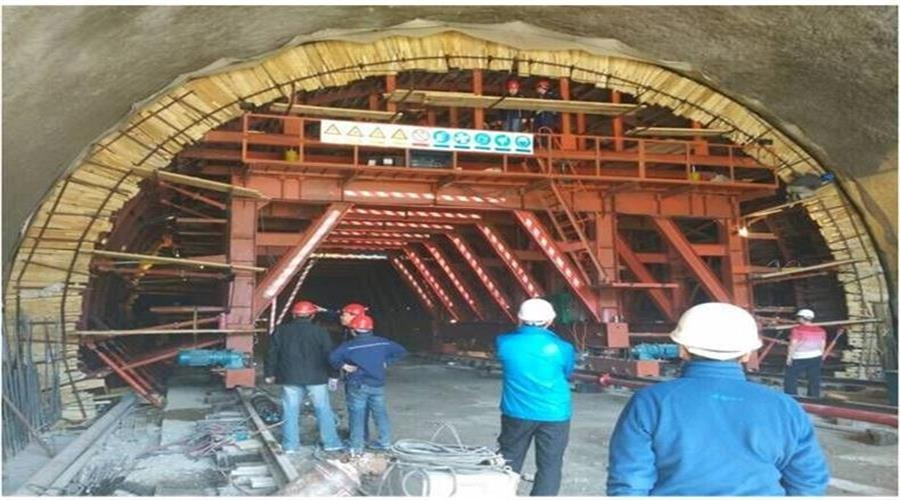red: (347, 313, 373, 338), (339, 303, 365, 324), (290, 301, 314, 323), (534, 77, 551, 94), (505, 77, 519, 96)
white: (665, 299, 767, 373), (512, 296, 556, 334), (794, 308, 815, 325)
